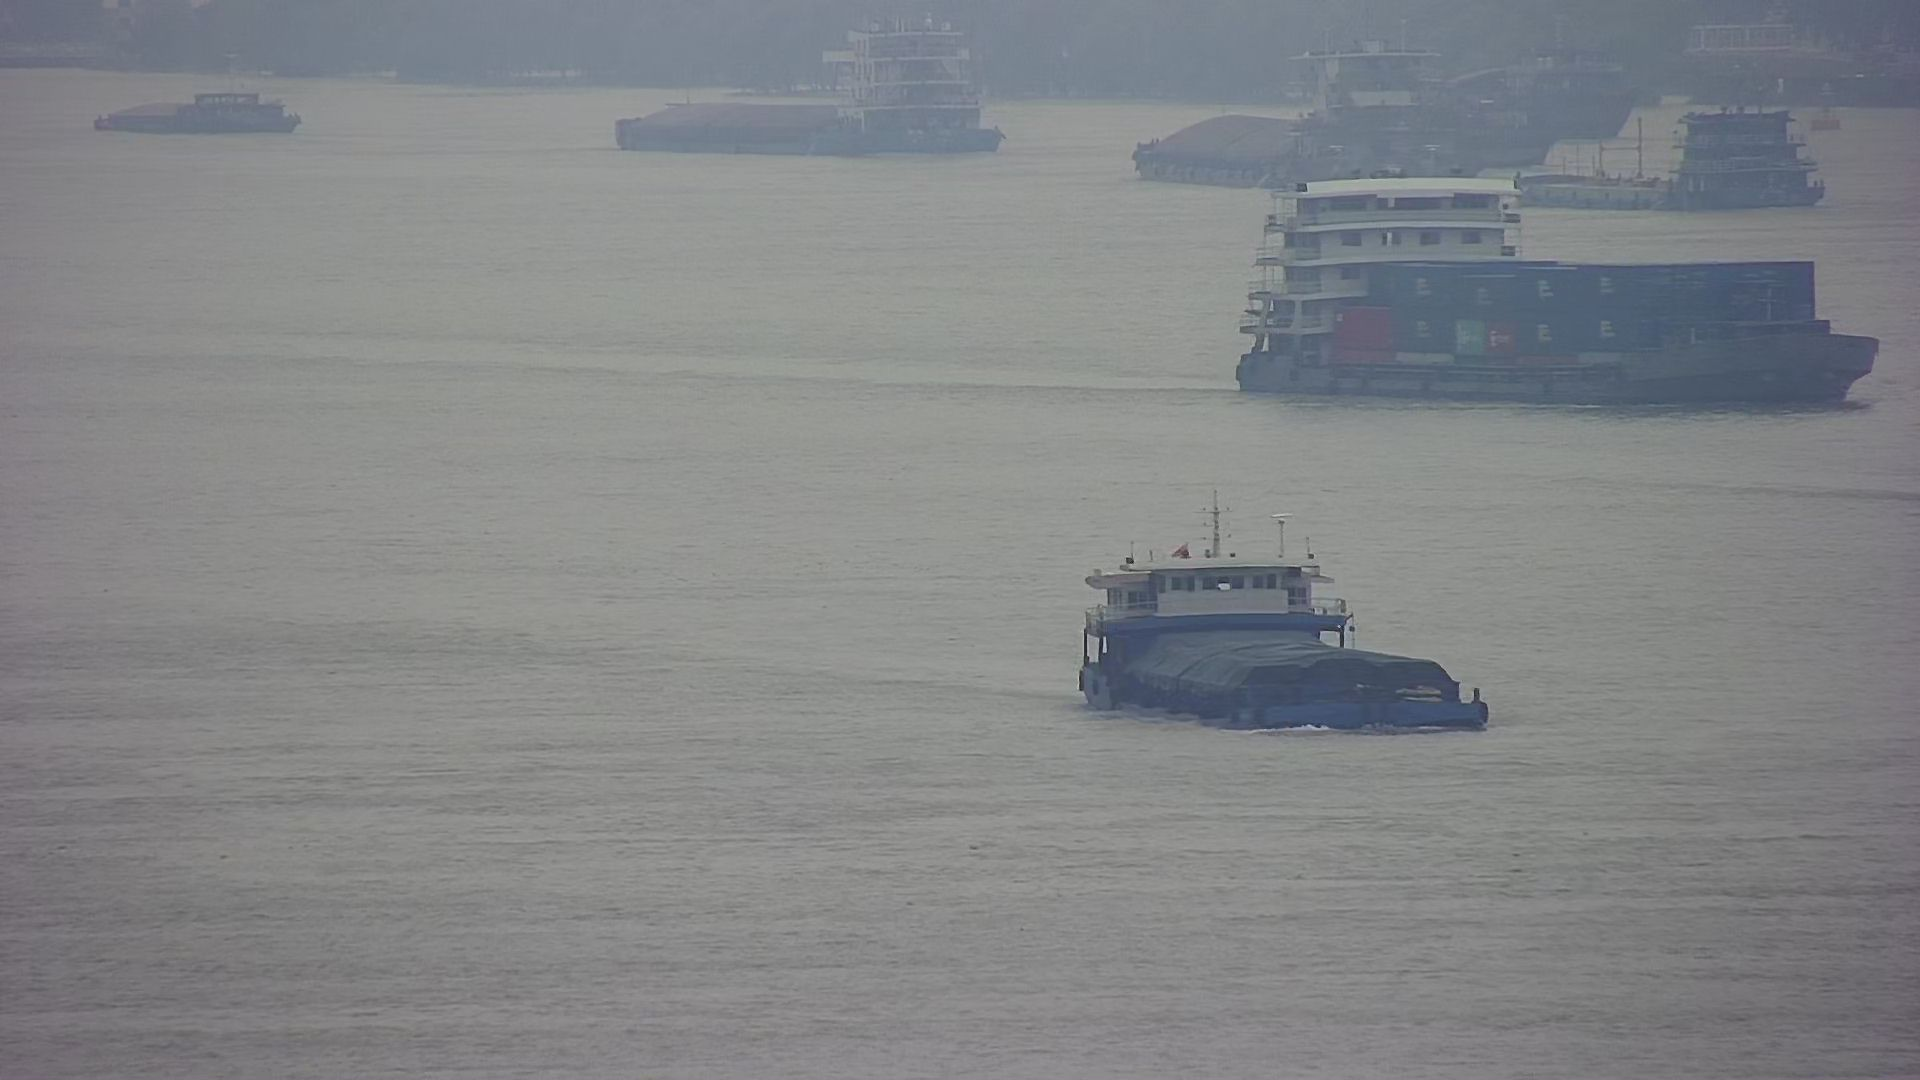ship: (1233, 165, 1876, 414), (1077, 501, 1494, 731), (1135, 18, 1491, 196), (613, 20, 1010, 156), (1509, 104, 1833, 208), (84, 78, 301, 138)
